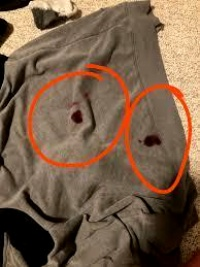ink: (142, 134, 161, 147), (70, 109, 81, 124)
